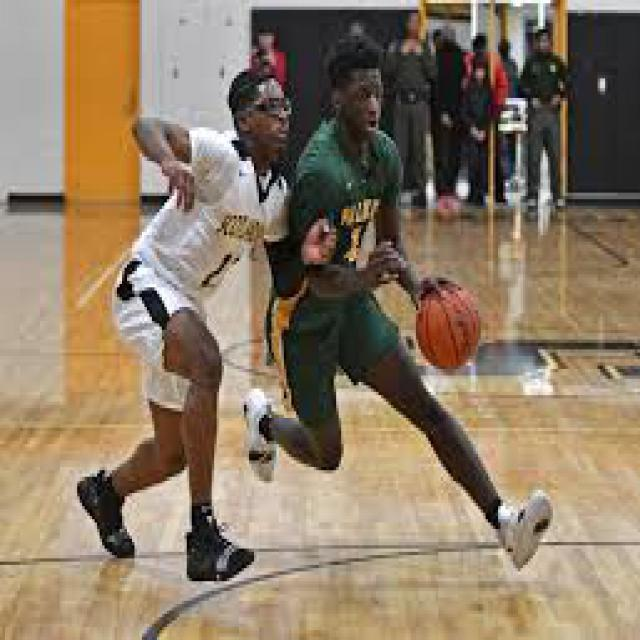basketball: (414, 279, 482, 372)
